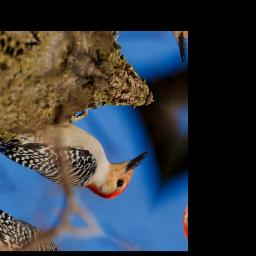Woodpecker: (0, 76, 150, 218)
